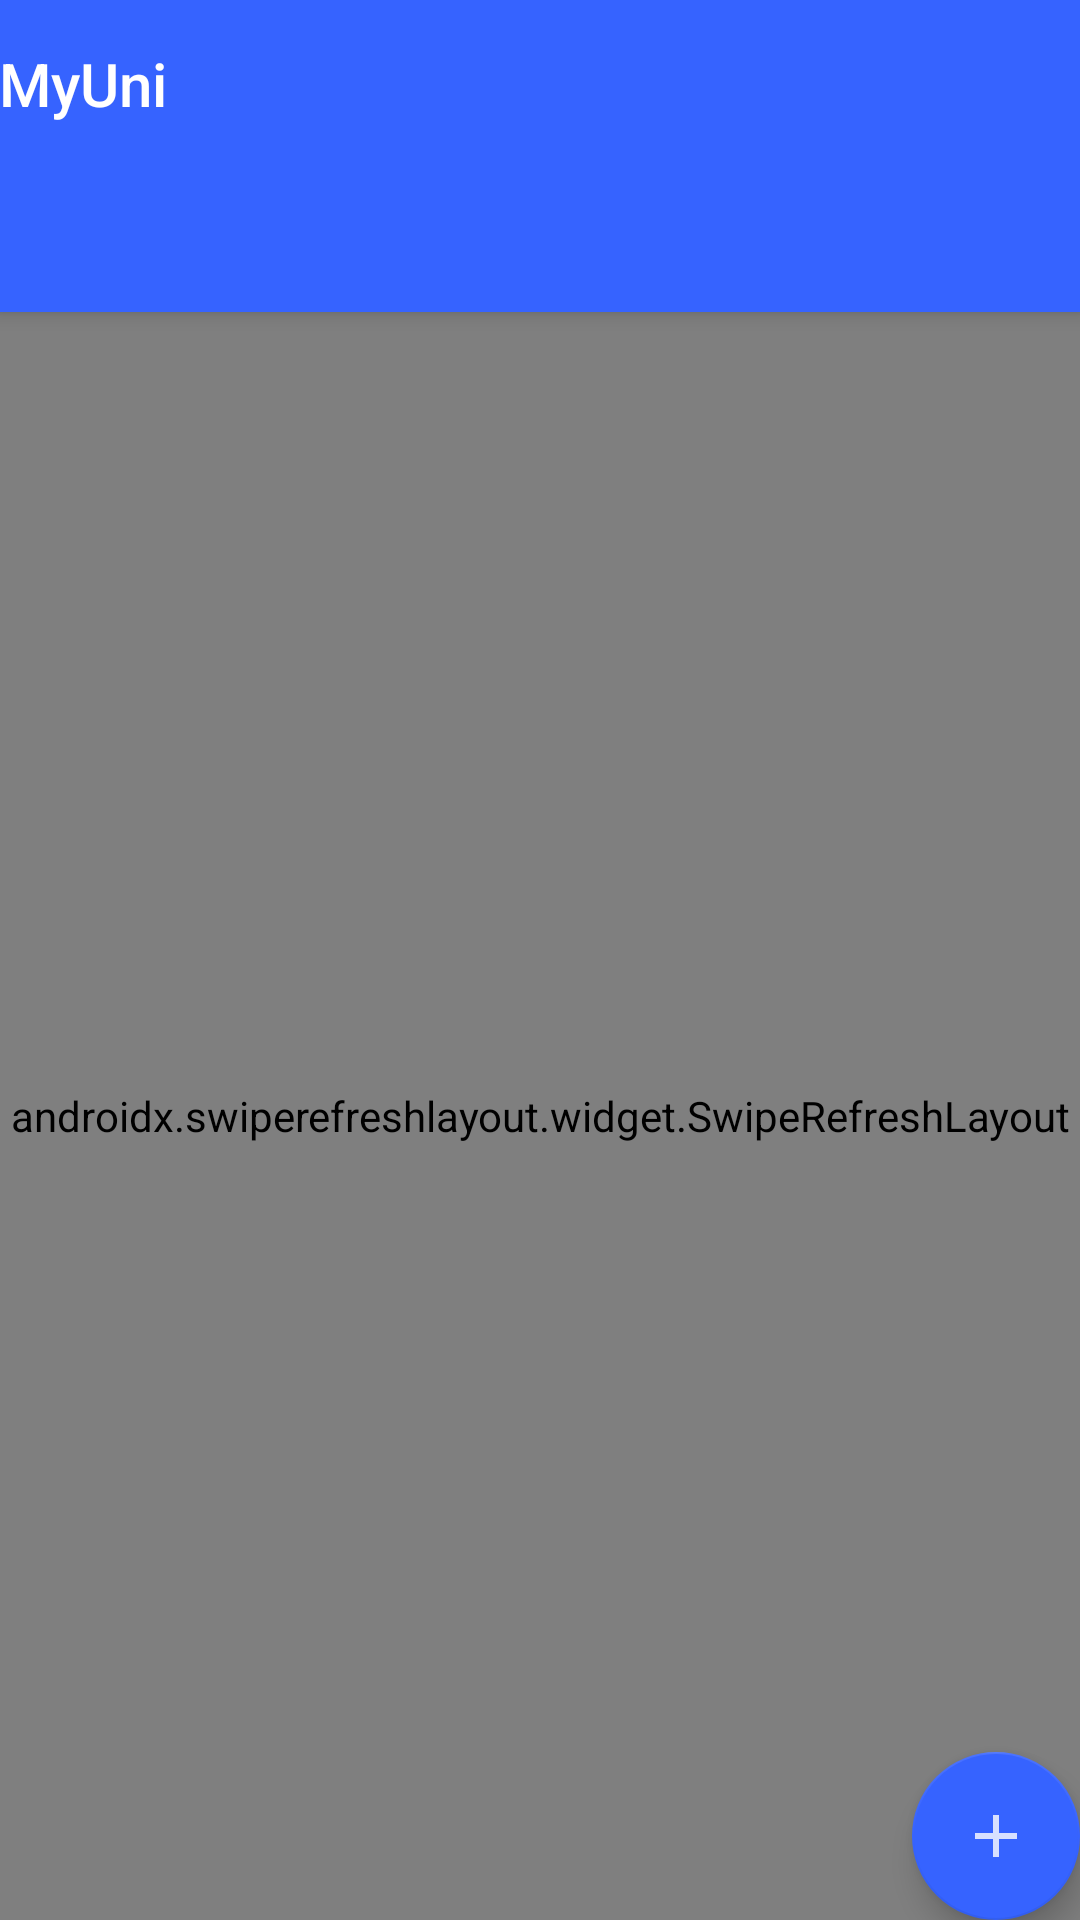

Named icons in this screenshot (1080x1920) and their bounding boxes, (x1, y1, x2, y2):
plus sign: (912, 1752, 1080, 1920)
